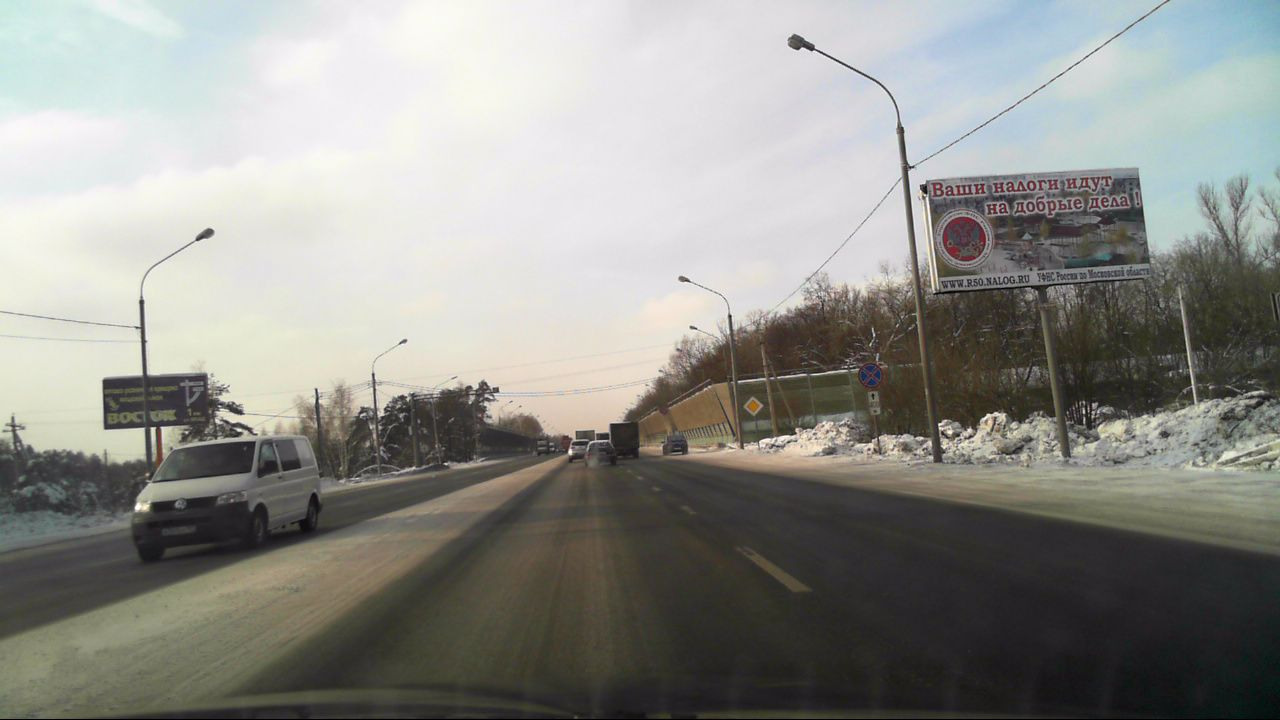No Parking: (858, 362, 884, 389)
